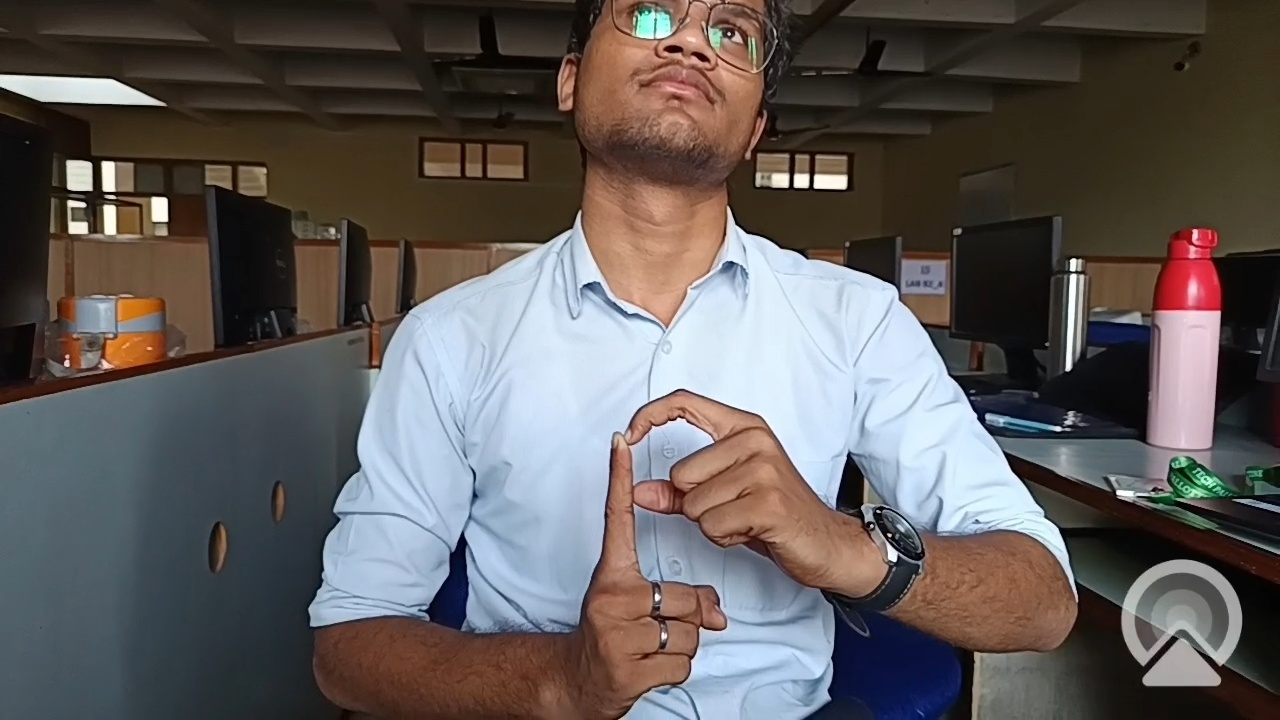P: (560, 363, 862, 653)
